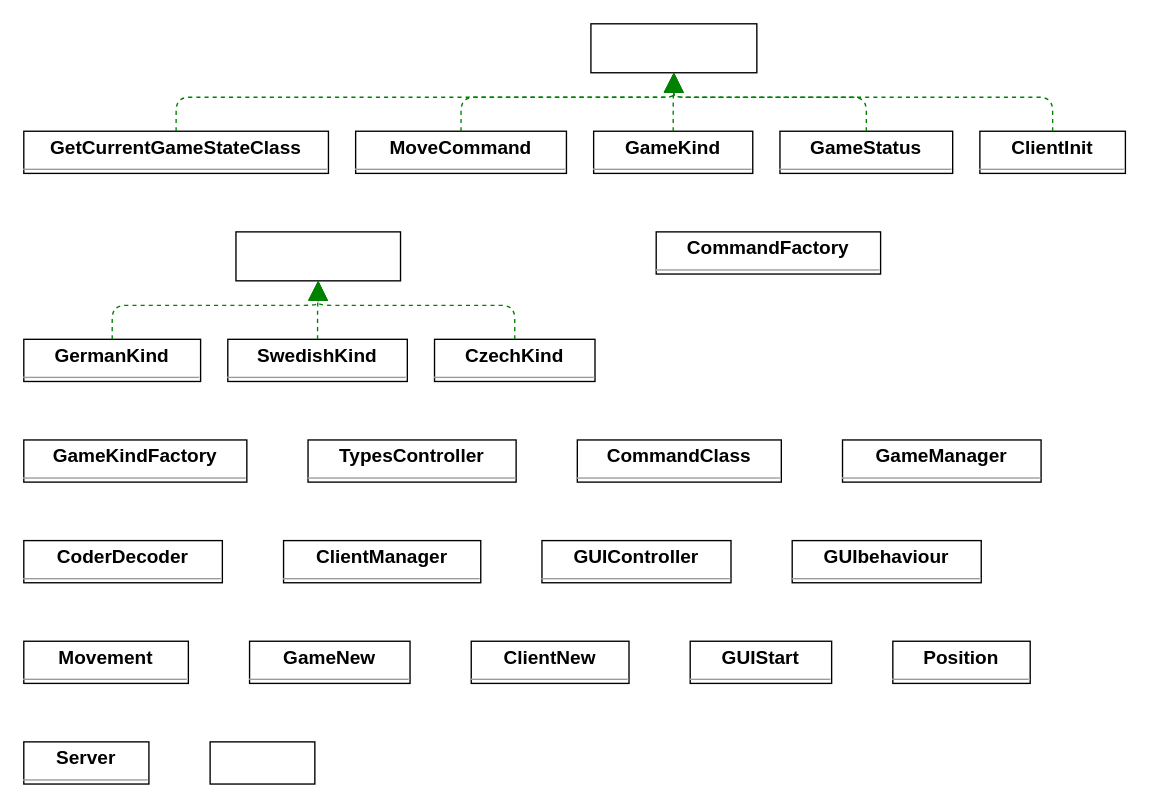
This 1149x808 diagram has some shape labels left out. The centre of each missing label's shape, as x and y in pixels:
"<<interface>> ICommand" goes at point 673,47.
"<<interface>> IGameKind" goes at point 318,256.
"App" goes at point 262,762.
